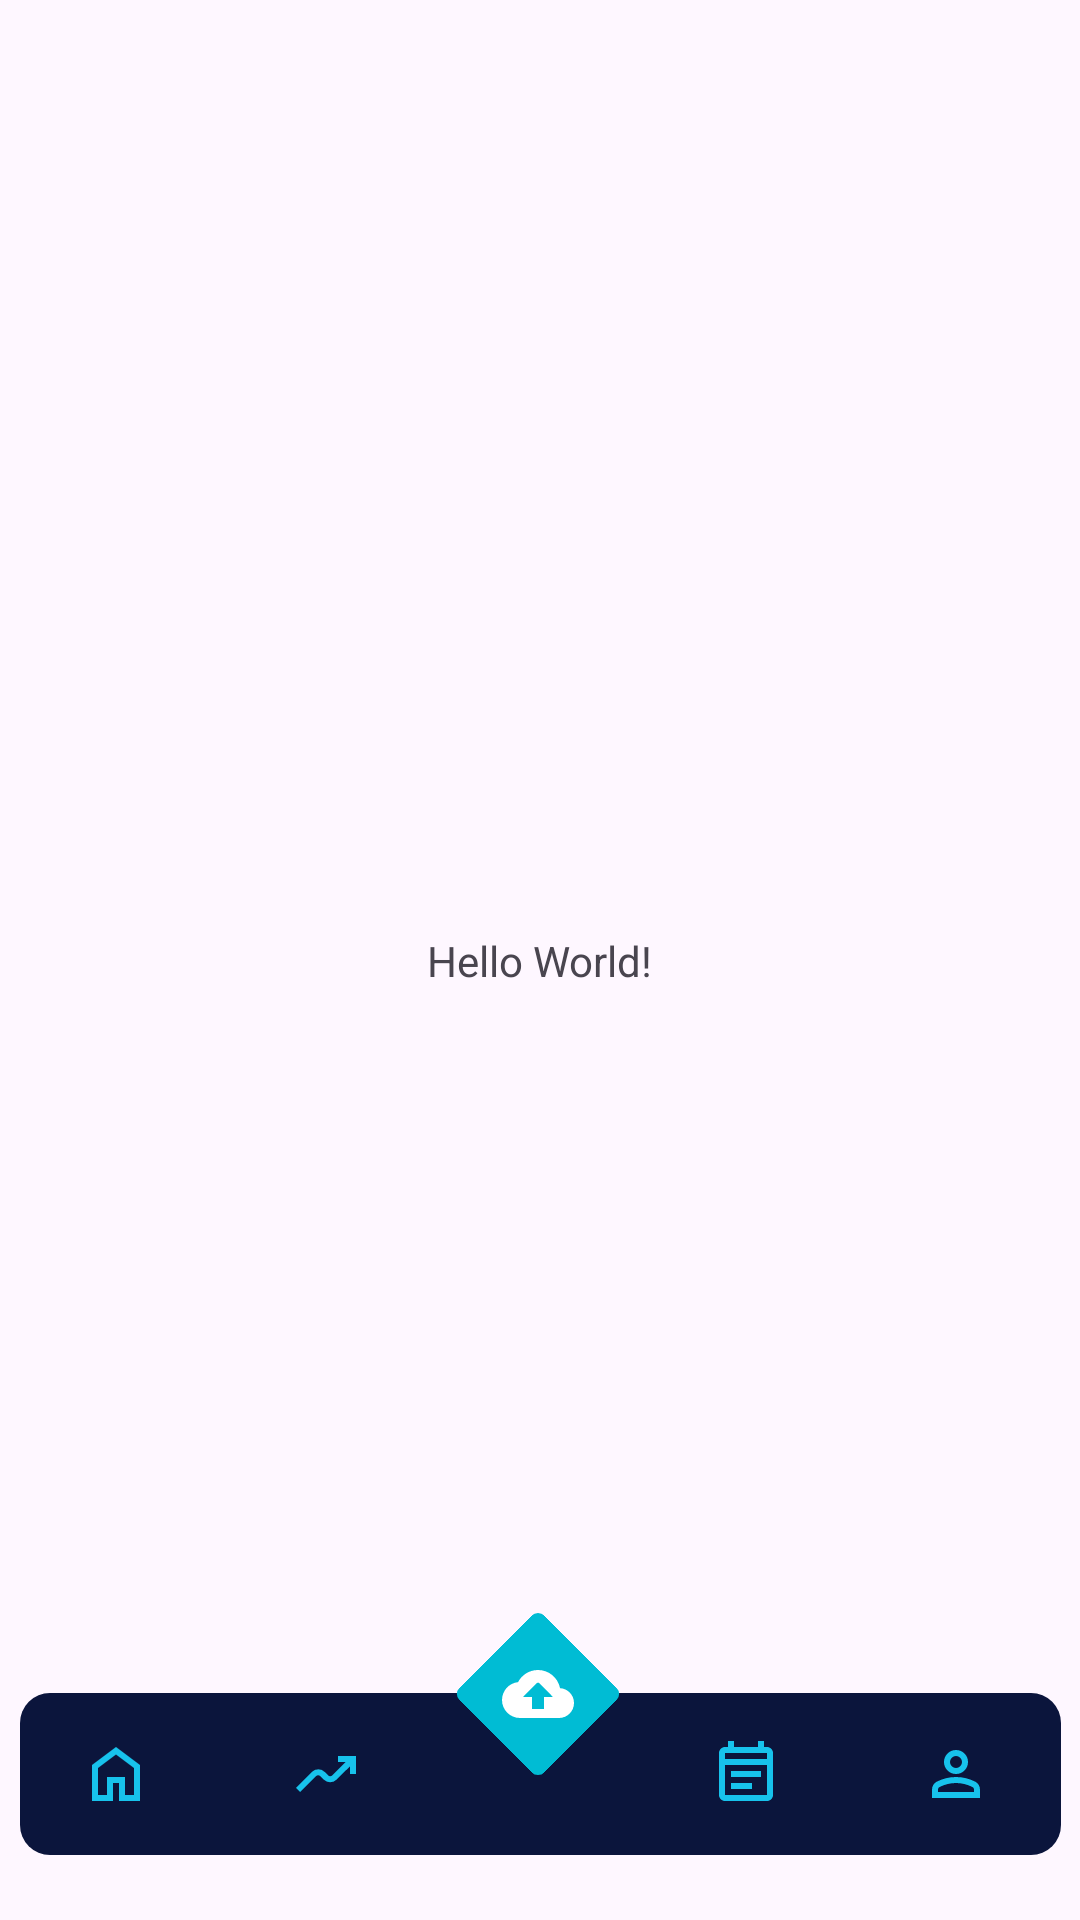

Icons on this 1080x1920 Android screen, each with its box as (x1, y1, x2, y2):
cloud upload: (502, 1670, 574, 1718)
event note: (719, 1741, 773, 1801)
home: (92, 1747, 140, 1801)
moving: (296, 1756, 356, 1792)
person: (932, 1750, 980, 1798)
